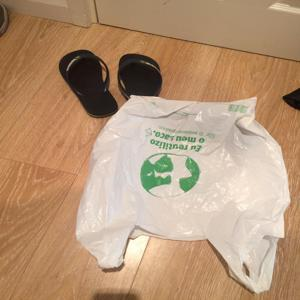plastic: (73, 88, 289, 295)
